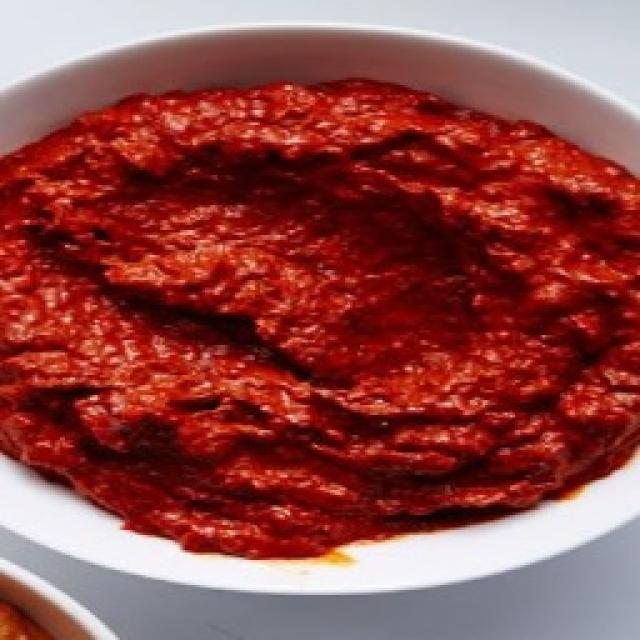Harissa: (0, 78, 640, 568)
